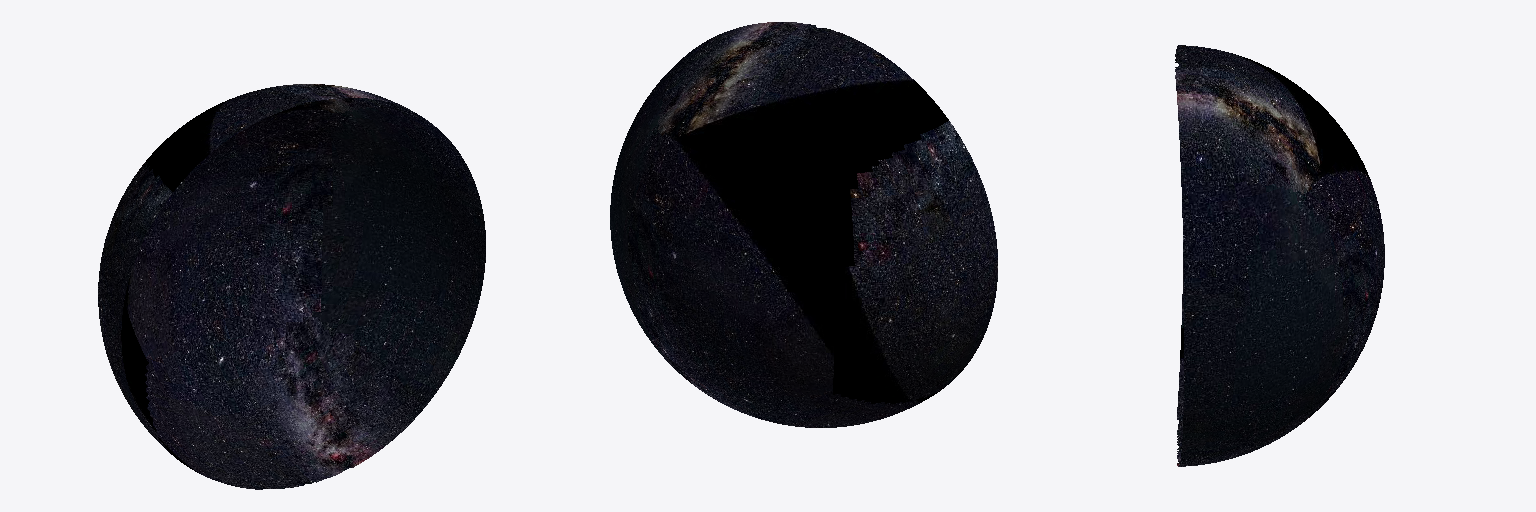
The picture shows the model from 3 angles: view 1: azimuth 30°, elevation 25°; view 2: azimuth 150°, elevation 25°; view 3: azimuth 270°, elevation 25°; orthographic projection.
Visible parts, largest first — view 1: Sphere; view 2: Sphere; view 3: Sphere.
Part boxes in pixels (x1,y1,x2,y2): Sphere: (98,84,485,489); Sphere: (610,22,997,427); Sphere: (1175,45,1384,466).
Bounding box in the file's own units: 6.81 × 6.82 × 3.39.
1 materials, 1 textured.